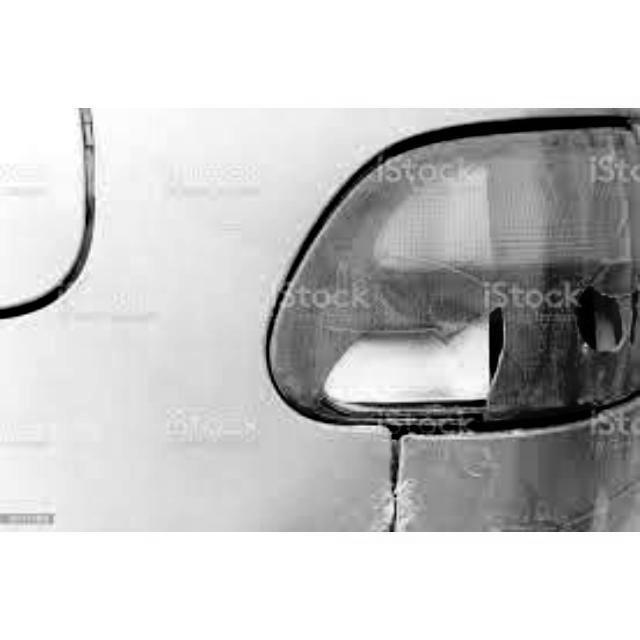Taillight-Damage: (261, 111, 638, 442)
